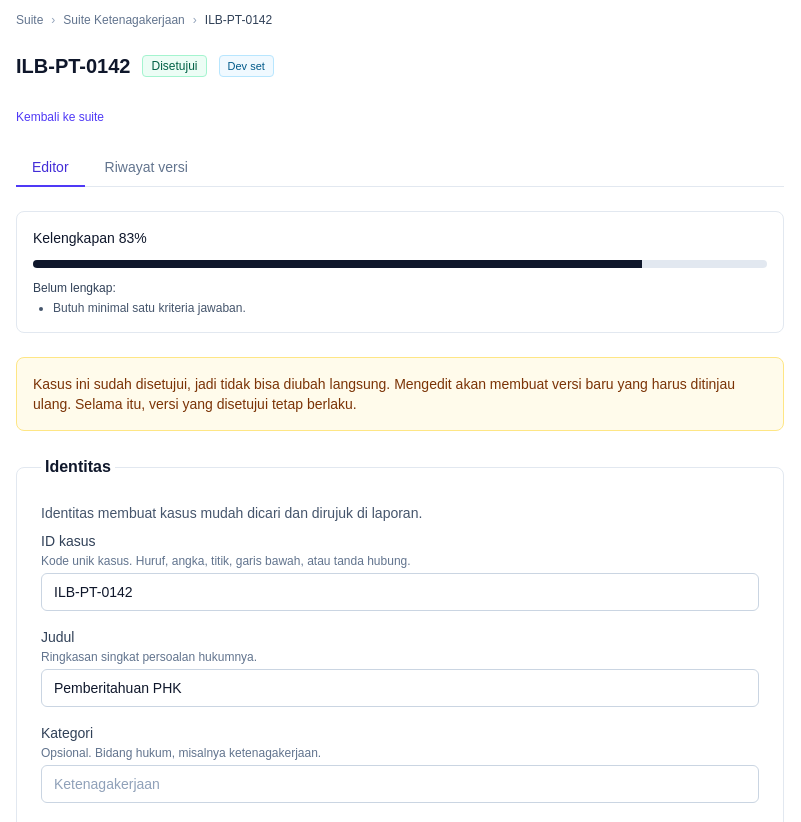
EditCasePage version history tab (SCRUM-138) › lets the contributor open the history
Check: the heading "ILB-PT-0142" is shown, box [16, 52, 130, 80]
Click the tab "Riwayat versi" at (146, 168), box [89, 149, 204, 187]
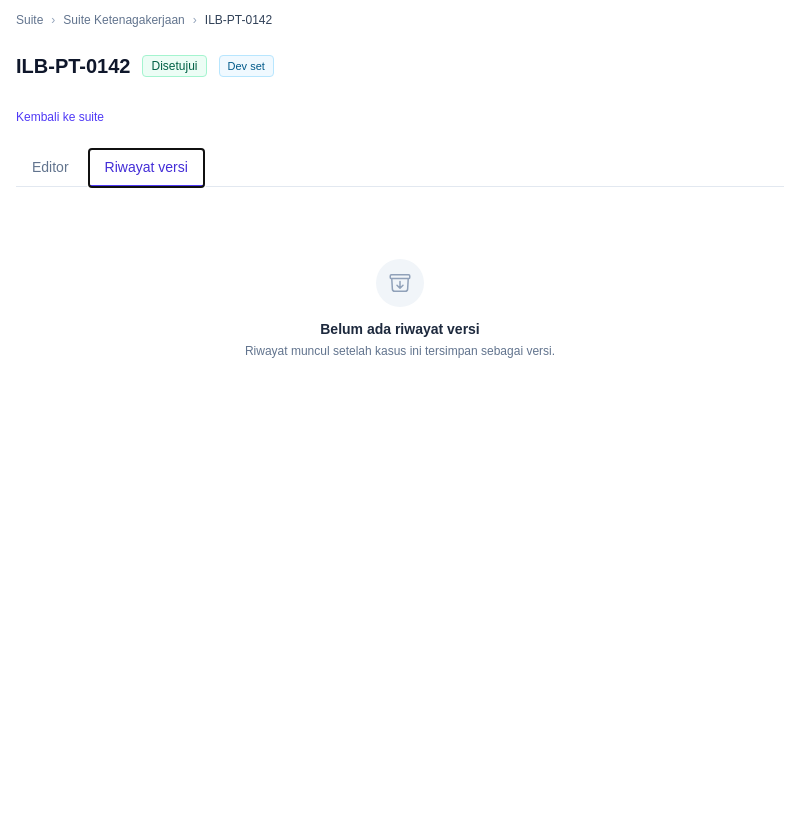
Check: the heading "Belum ada riwayat versi" is shown, box [320, 319, 480, 339]
